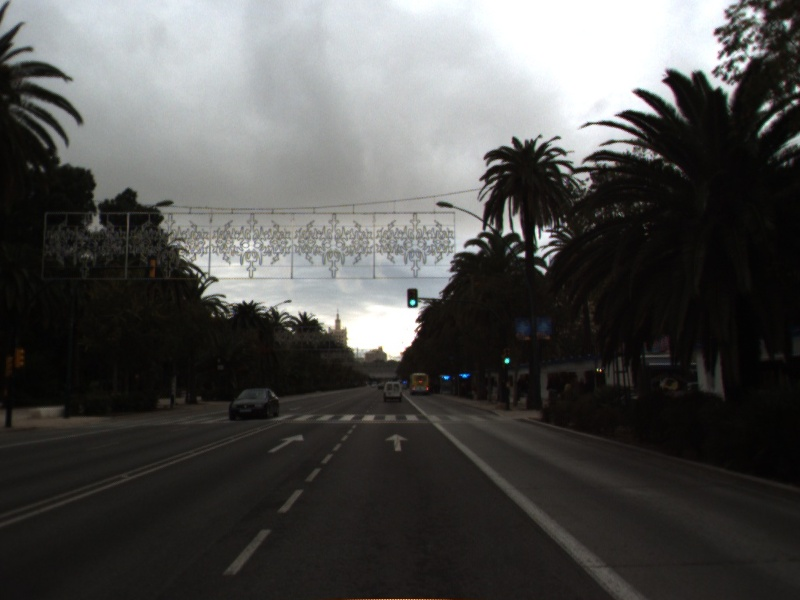STRAIGHT: (266, 432, 305, 455), (383, 432, 410, 453)
